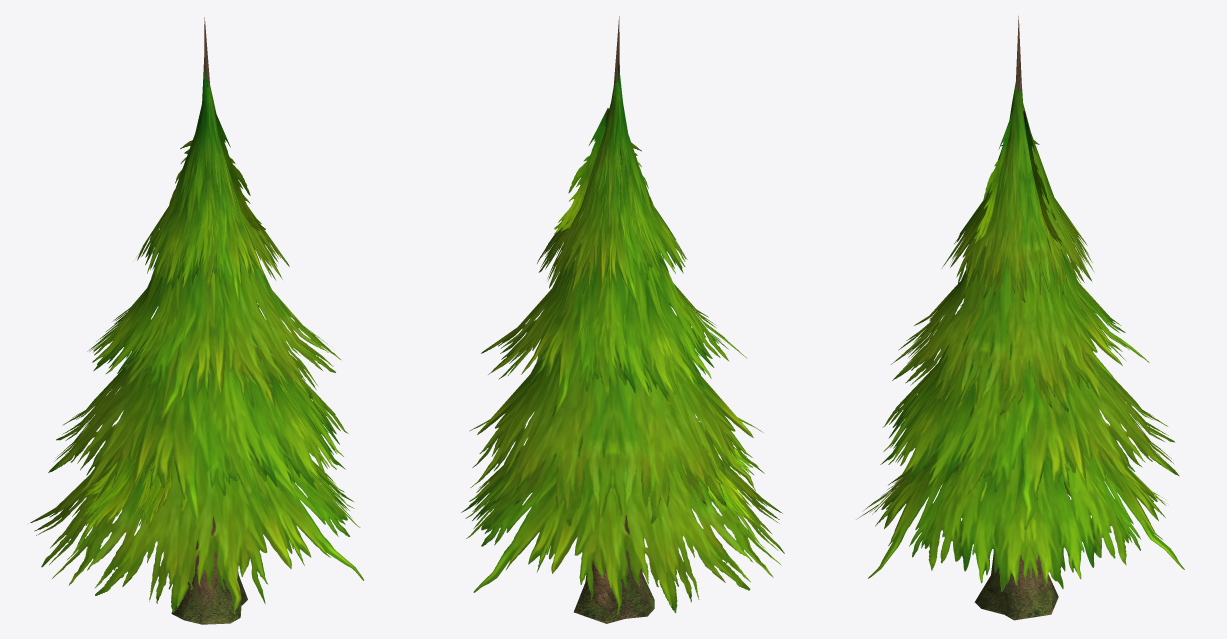
Rendered from Pine_Green_02.FBX.
3 renders of one model, left to right at view 1: azimuth 30°, elevation 25°; view 2: azimuth 150°, elevation 25°; view 3: azimuth 270°, elevation 25°, orthographic.
Parts seen in each view (by area): view 1: pine_green_02; view 2: pine_green_02; view 3: pine_green_02.
Part boxes in pixels (bbox=[...]): pine_green_02: bbox=[30, 17, 364, 624]; pine_green_02: bbox=[461, 16, 784, 623]; pine_green_02: bbox=[856, 16, 1184, 620].
Bounding box in the file's own units: 28.96 × 28.96 × 48.33.
Materials: 2 (2 with a texture image).
